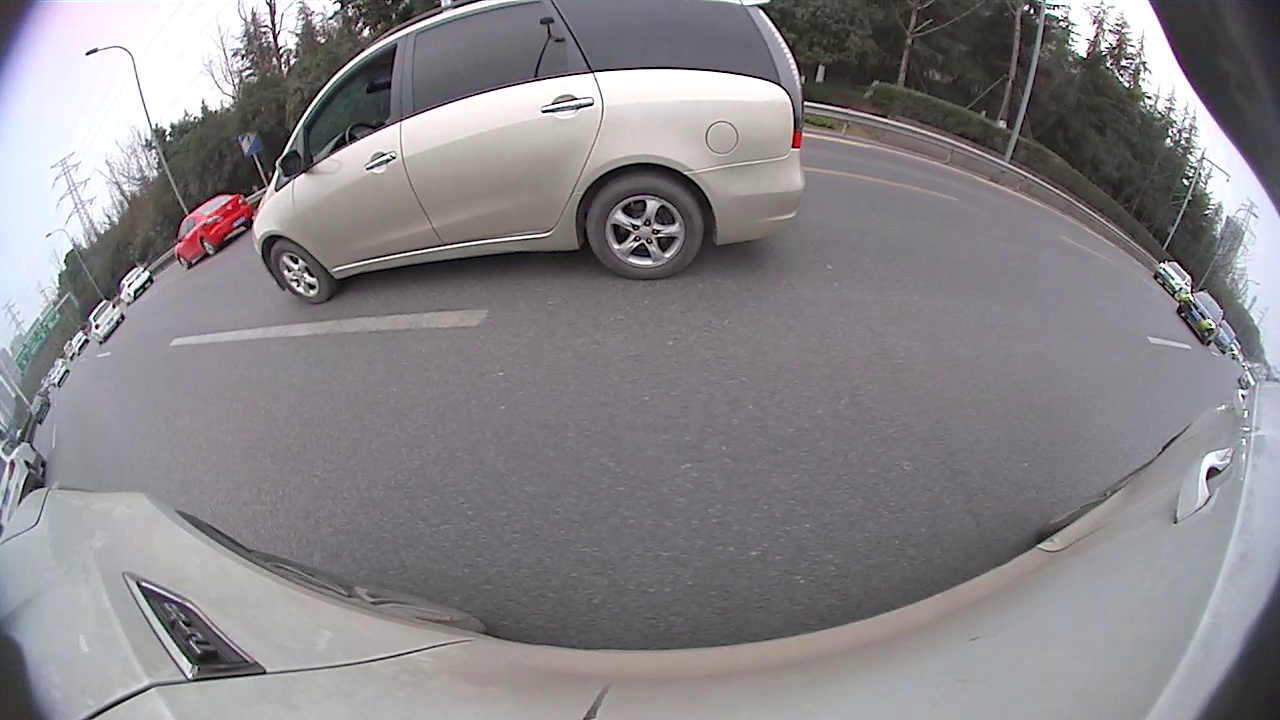bus: (943, 101, 1279, 414), (771, 126, 964, 223)
car: (1, 130, 400, 528), (596, 135, 707, 219), (448, 151, 553, 221), (551, 159, 595, 192), (700, 154, 739, 187)
front: (339, 218, 397, 297), (1012, 216, 1067, 286), (790, 173, 802, 194), (543, 181, 552, 200)
rear: (13, 402, 132, 526), (847, 178, 865, 206), (516, 186, 531, 213)
